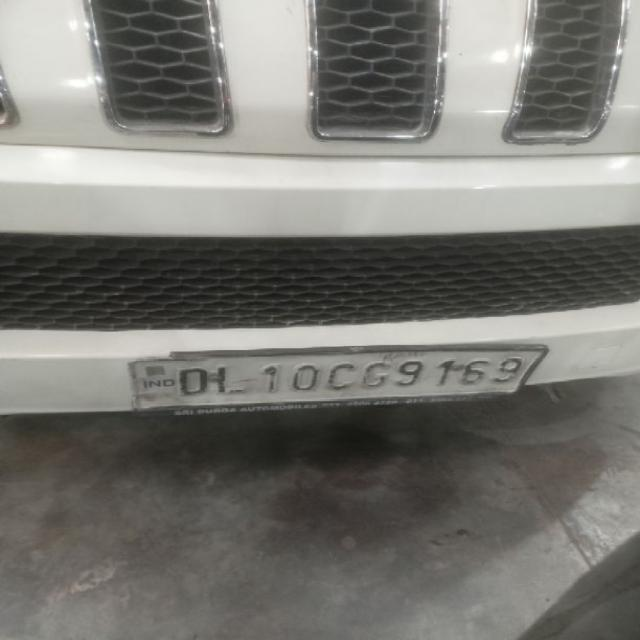license_plate: (1, 0, 638, 417), (126, 342, 549, 414)
